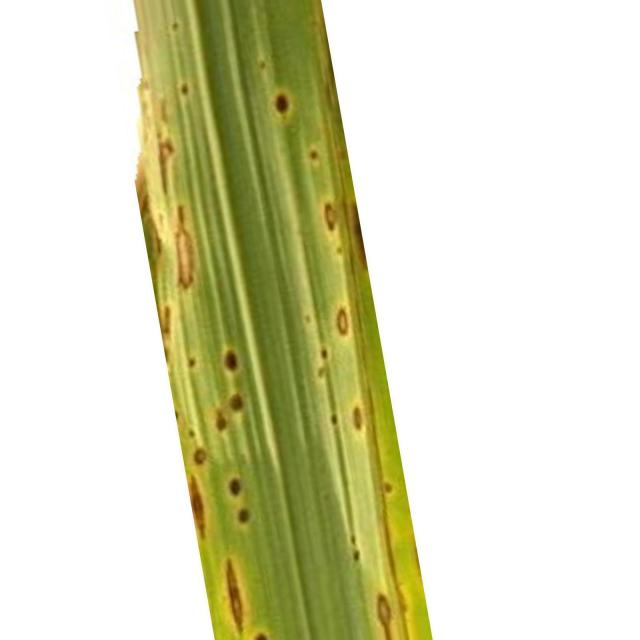Brown_Spot: (175, 206, 194, 288), (226, 560, 242, 632), (189, 476, 205, 538), (376, 594, 392, 639), (159, 141, 172, 194), (159, 306, 171, 352), (325, 202, 336, 229), (338, 309, 349, 335), (225, 350, 238, 370), (275, 94, 289, 112), (229, 479, 241, 495), (230, 394, 242, 410), (216, 411, 226, 430), (194, 449, 206, 464), (354, 408, 362, 429), (238, 509, 249, 522), (171, 19, 179, 32), (254, 632, 268, 639), (181, 82, 189, 94), (385, 482, 392, 492), (331, 414, 338, 424), (354, 550, 360, 561), (321, 350, 328, 359), (189, 359, 196, 368), (310, 151, 318, 158), (189, 429, 195, 438)
